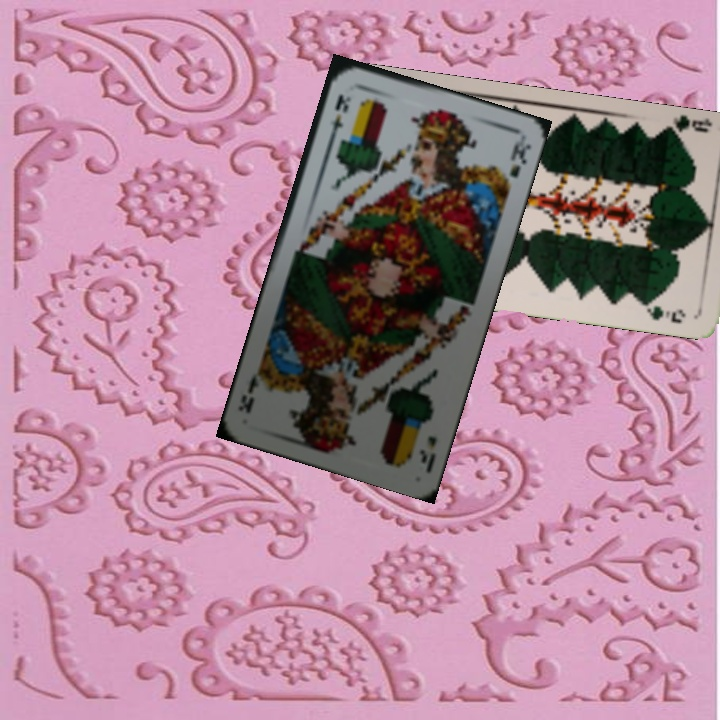EK: (326, 89, 353, 142), (415, 431, 439, 475)
G9: (662, 113, 715, 141)
